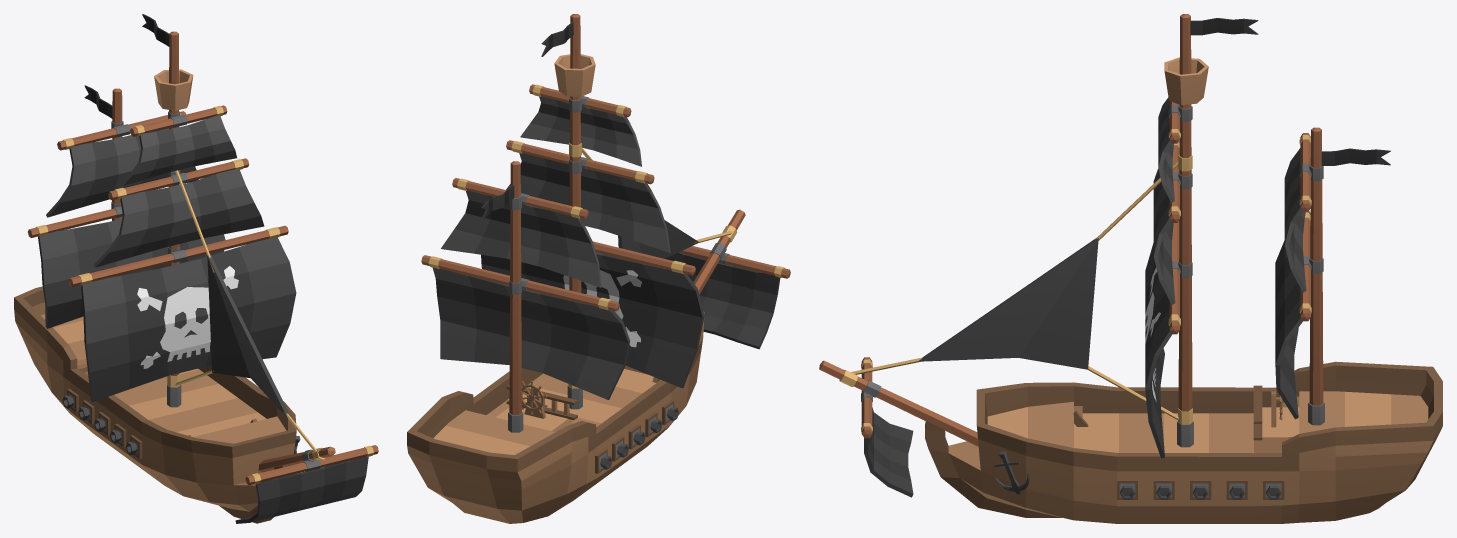
The model's file is pirate-ship-3.glb.
3 renders of one model, left to right at view 1: azimuth 30°, elevation 25°; view 2: azimuth 150°, elevation 25°; view 3: azimuth 270°, elevation 25°, orthographic. The views are drawn at different scales.
Visible parts, largest first — view 1: pirate ship 3; view 2: pirate ship 3; view 3: pirate ship 3.
Boxes of the visible parts, x1,y1,x2,y2 form: pirate ship 3: [14, 14, 378, 523]; pirate ship 3: [407, 14, 790, 523]; pirate ship 3: [819, 14, 1442, 523].
Bounding box in the file's own units: 11.99 × 22.73 × 25.77.
Materials: 1 (1 with a texture image).
